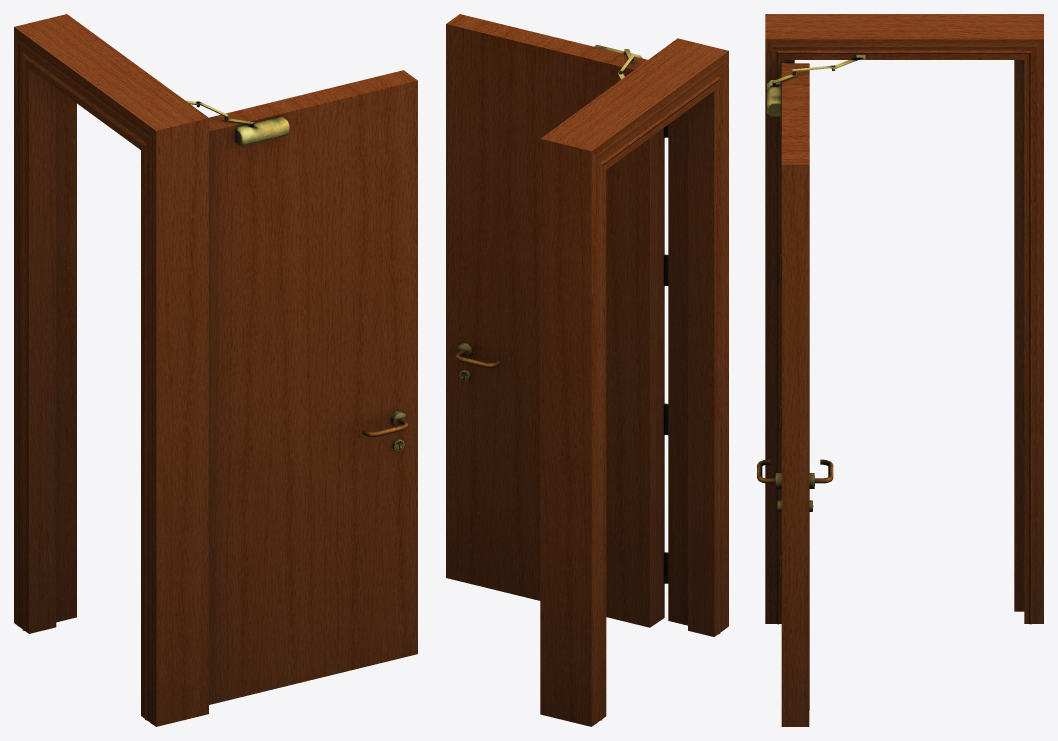
Rendered from open_door01.DAE.
The picture shows the model from 3 angles, left to right: view 1: azimuth 30°, elevation 25°; view 2: azimuth 150°, elevation 25°; view 3: azimuth 270°, elevation 25°; orthographic projection. The views are drawn at different scales.
Visible parts, largest first — view 1: open_door01; view 2: open_door01; view 3: open_door01.
Part boxes in pixels (x1,y1,x2,y2): open_door01: (14, 14, 417, 726); open_door01: (446, 14, 728, 726); open_door01: (757, 14, 1043, 726).
Size of the model in its own units: 46.69 by 43.6 by 98.
1 material, 1 textured.
